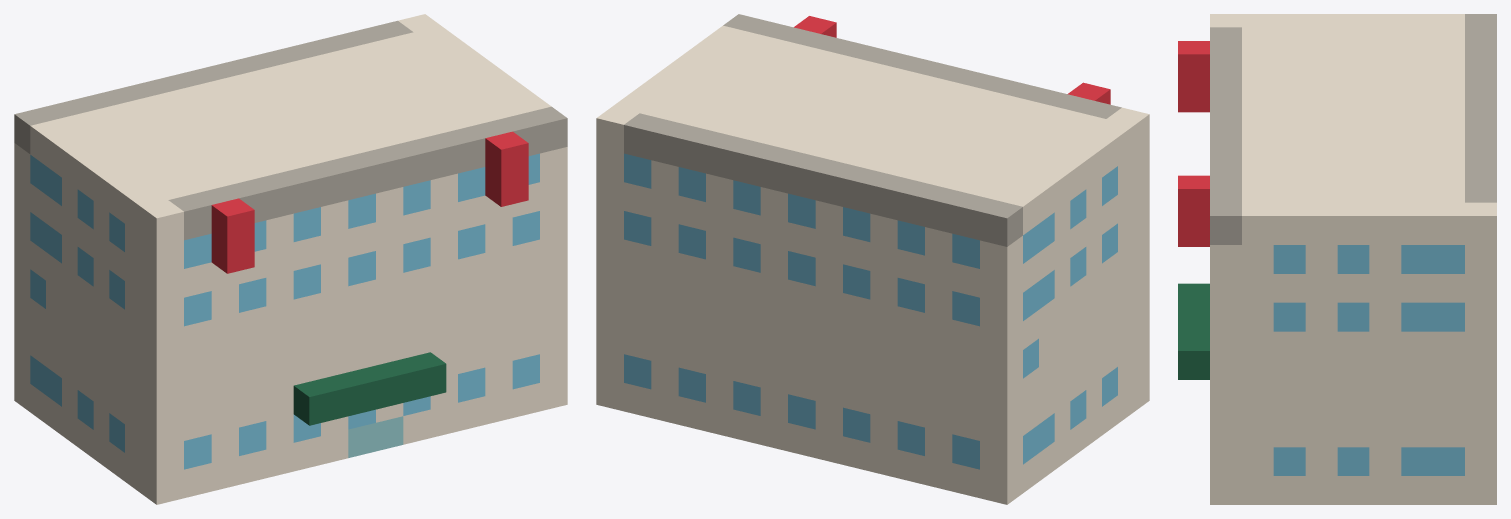
File: hotel.glb
The picture shows the model from 3 angles, left to right: view 1: azimuth 30°, elevation 25°; view 2: azimuth 150°, elevation 25°; view 3: azimuth 270°, elevation 25°; orthographic projection.
Parts seen in each view (by area): view 1: hotel_wall_cream, hotel_roof_flat, hotel_window, hotel_pub_green, hotel_red, hotel_glass; view 2: hotel_wall_cream, hotel_roof_flat, hotel_window, hotel_red; view 3: hotel_wall_cream, hotel_roof_flat, hotel_window, hotel_red, hotel_pub_green.
Part boxes in pixels (x1,y1,x2,y2): hotel_wall_cream: [14, 14, 567, 504]; hotel_roof_flat: [14, 20, 567, 240]; hotel_window: [30, 153, 539, 469]; hotel_pub_green: [293, 352, 446, 425]; hotel_red: [211, 131, 528, 273]; hotel_glass: [348, 416, 403, 457]; hotel_wall_cream: [596, 25, 1149, 504]; hotel_roof_flat: [624, 14, 1121, 246]; hotel_window: [624, 153, 1117, 469]; hotel_red: [794, 16, 1110, 104]; hotel_wall_cream: [1210, 14, 1496, 504]; hotel_roof_flat: [1210, 14, 1496, 244]; hotel_window: [1273, 245, 1464, 475]; hotel_red: [1178, 41, 1209, 246]; hotel_pub_green: [1178, 283, 1209, 379].
Bounding box in the file's own units: 24.99 × 16.66 × 16.66.
